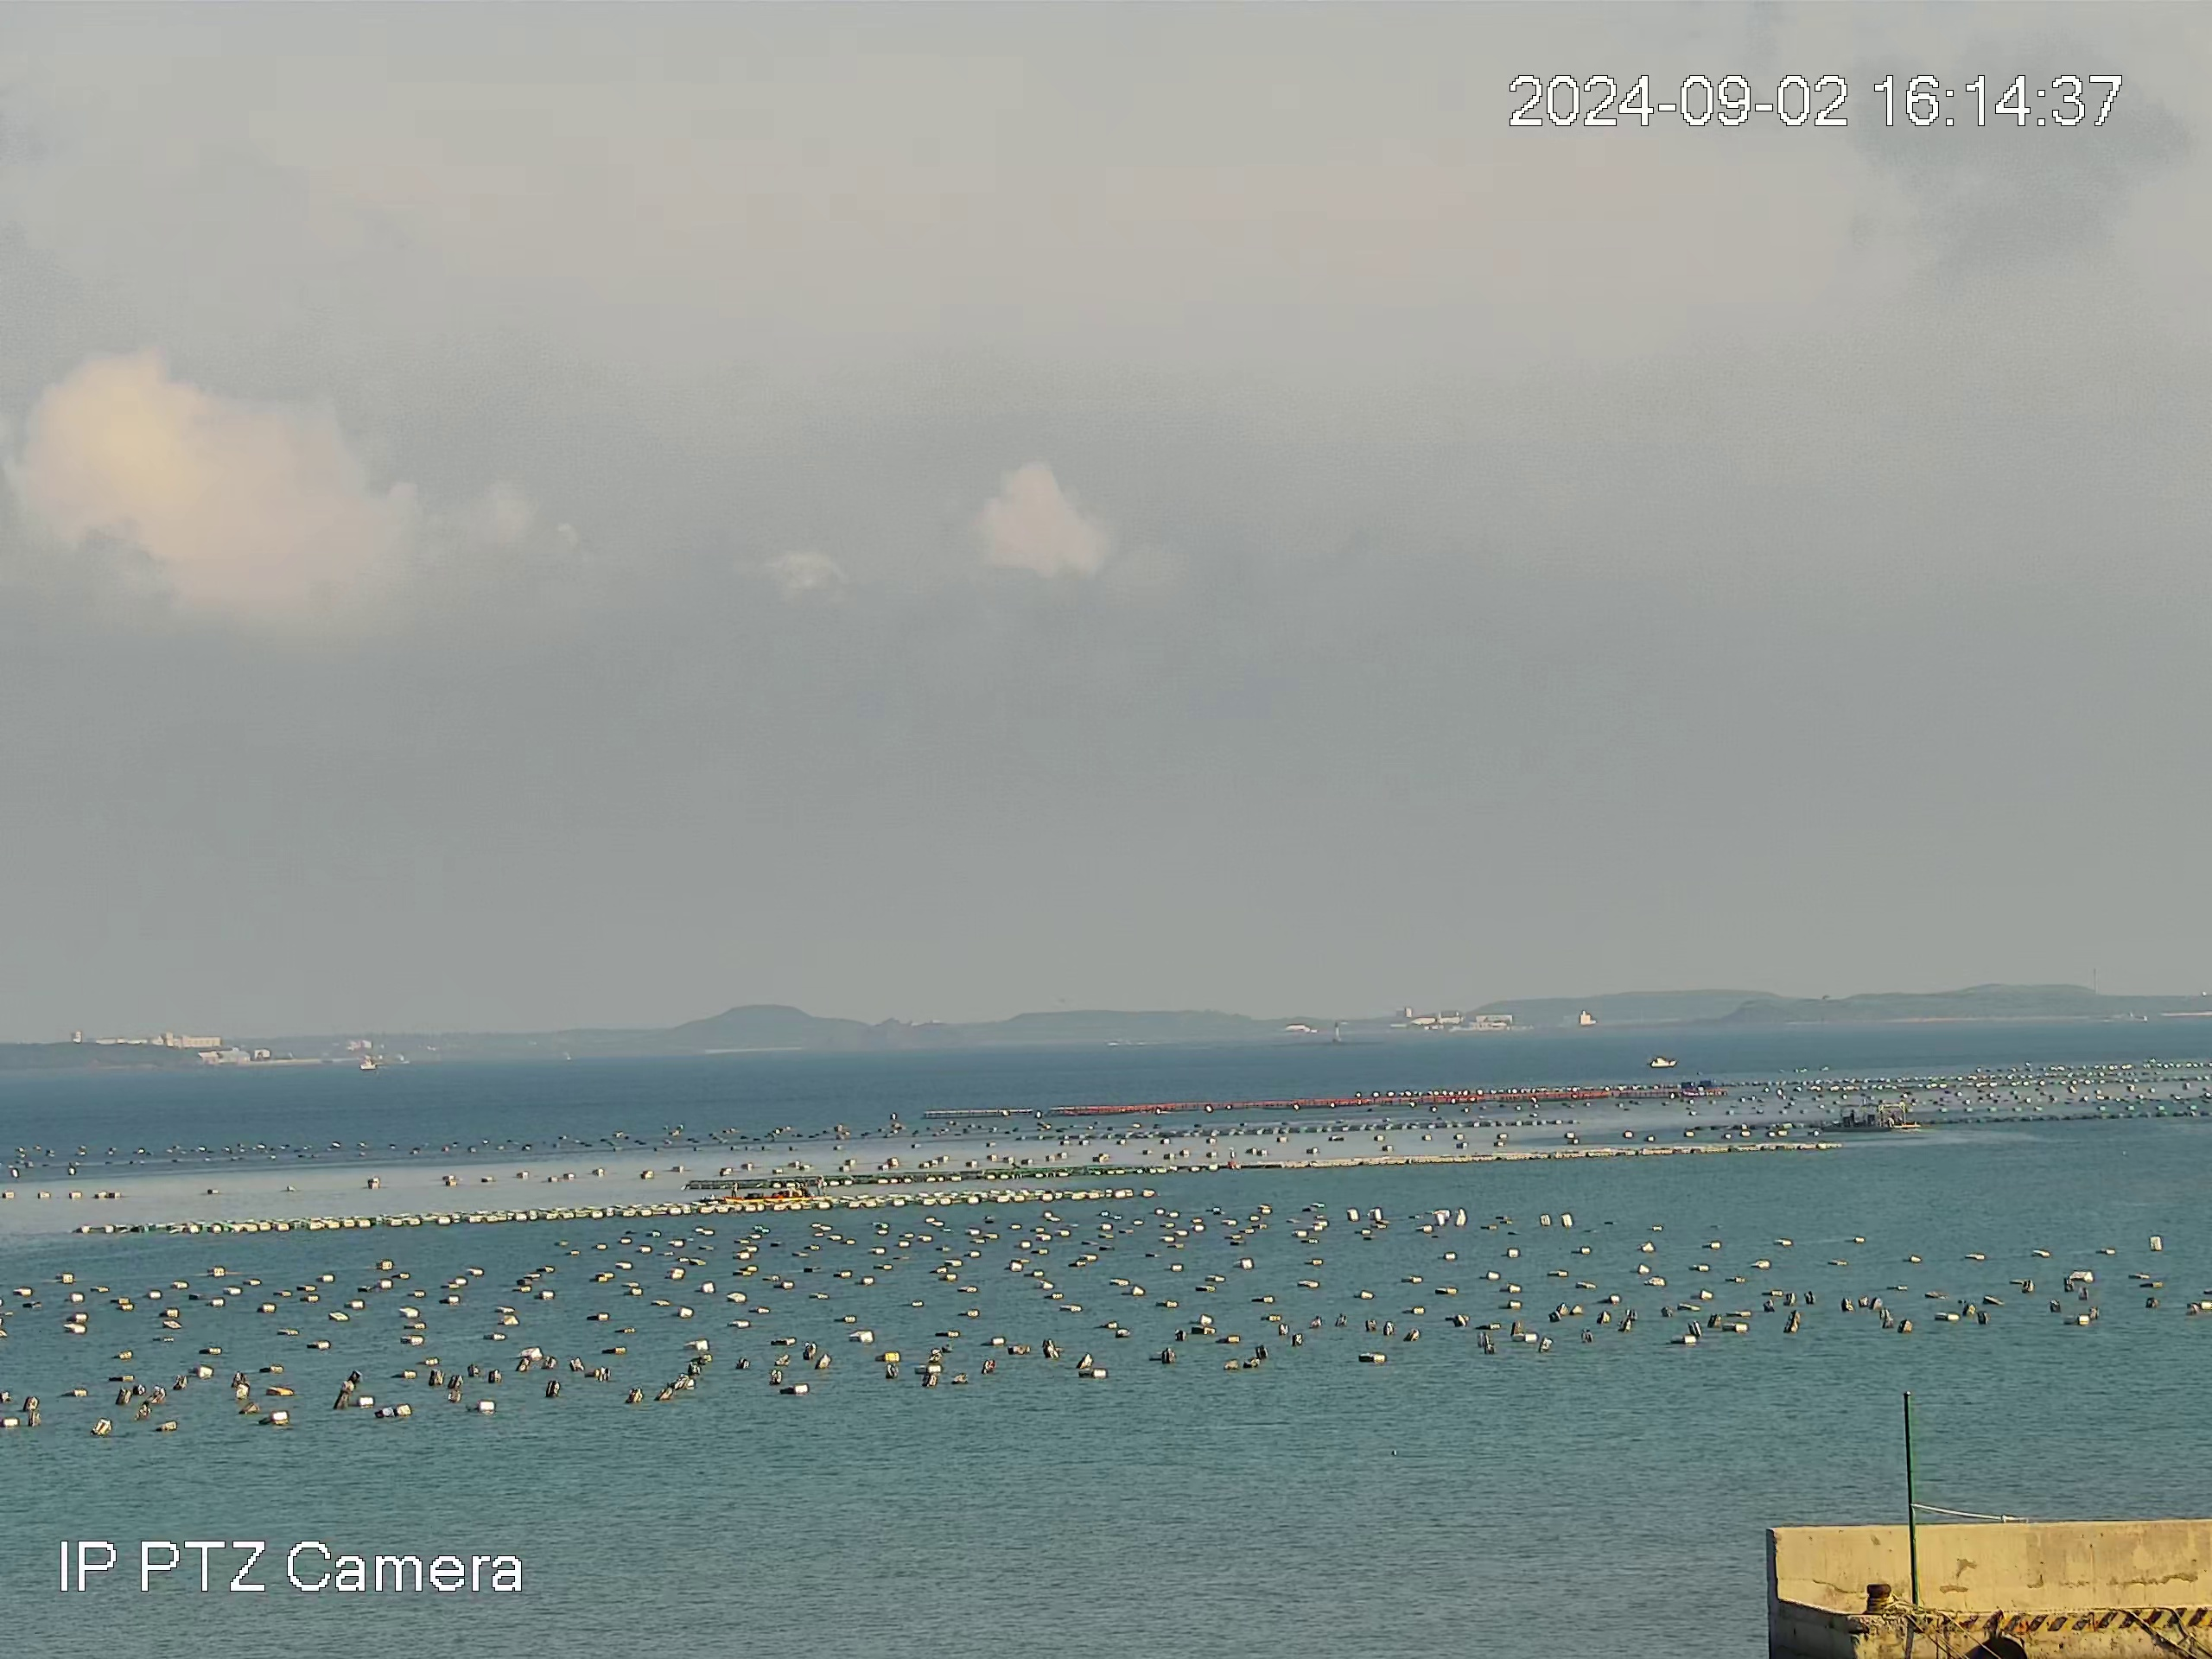boat: (1820, 1101, 1923, 1136), (721, 1180, 815, 1204), (1649, 1054, 1679, 1070)
